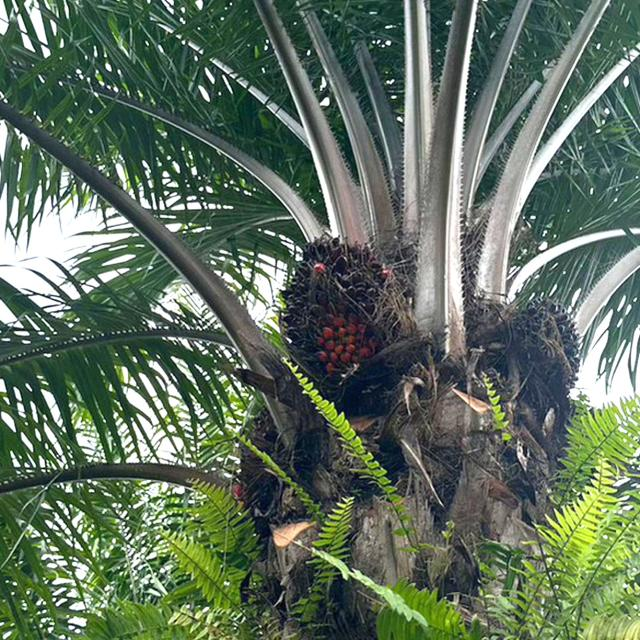ripe: (273, 230, 411, 390)
